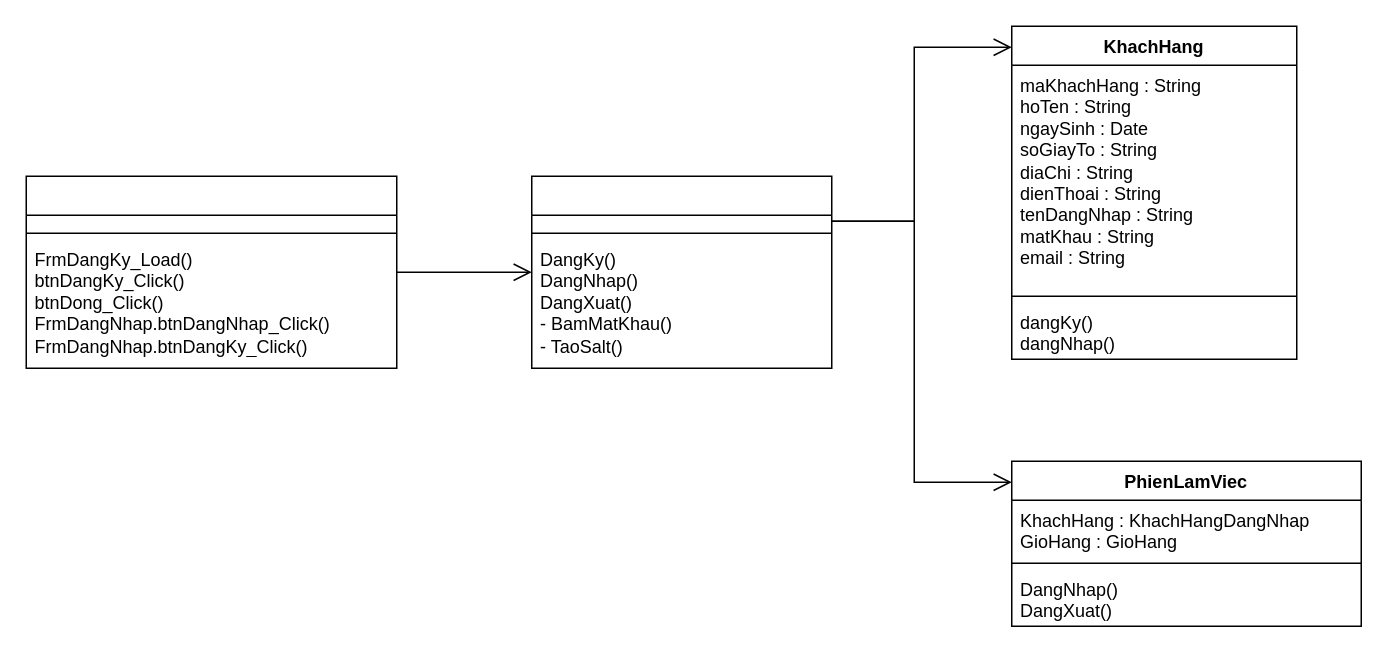
The diagram is 1388 pixels wide and 657 high, and some of its shapes have lost their labels. Each missing label, with the box of its shape:
FrmDangKy / FrmDangNhap: (25, 175, 397, 368)
TaiKhoanService: (530, 175, 832, 368)
